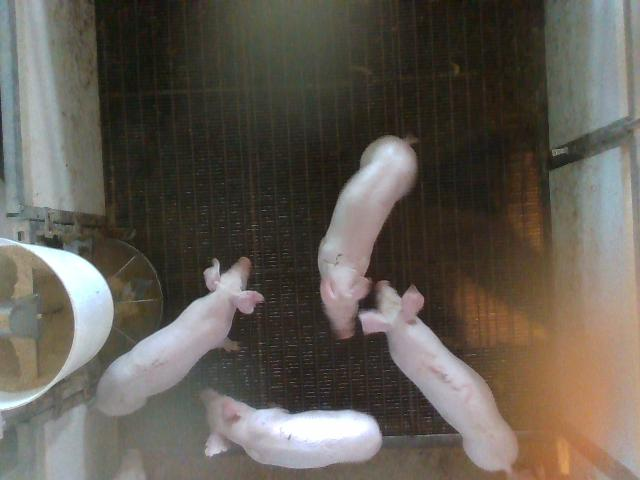pig-3: (359, 282, 518, 471)
